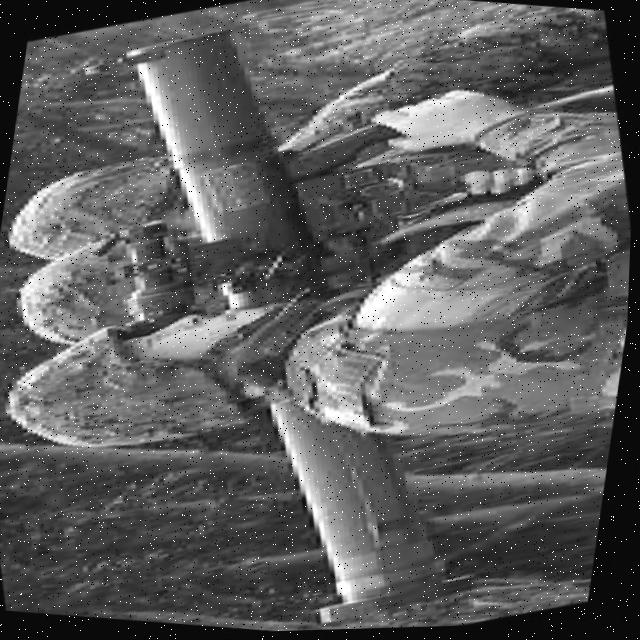rocket: (20, 0, 567, 639)
